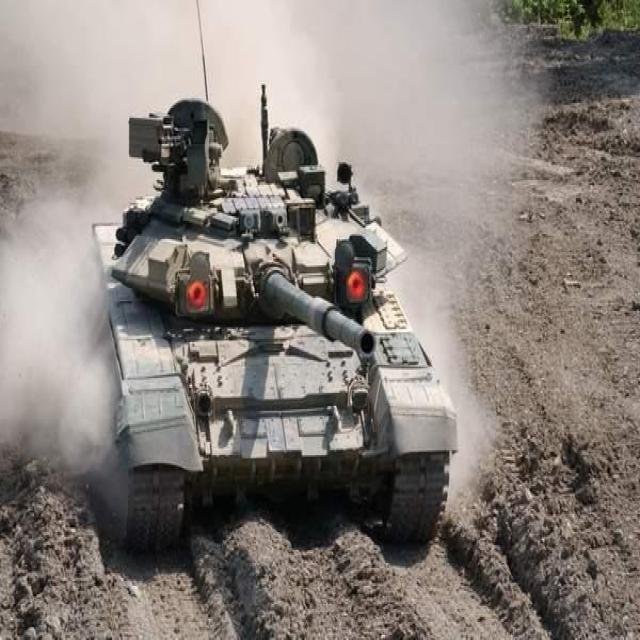Tanks: (92, 77, 452, 571)
